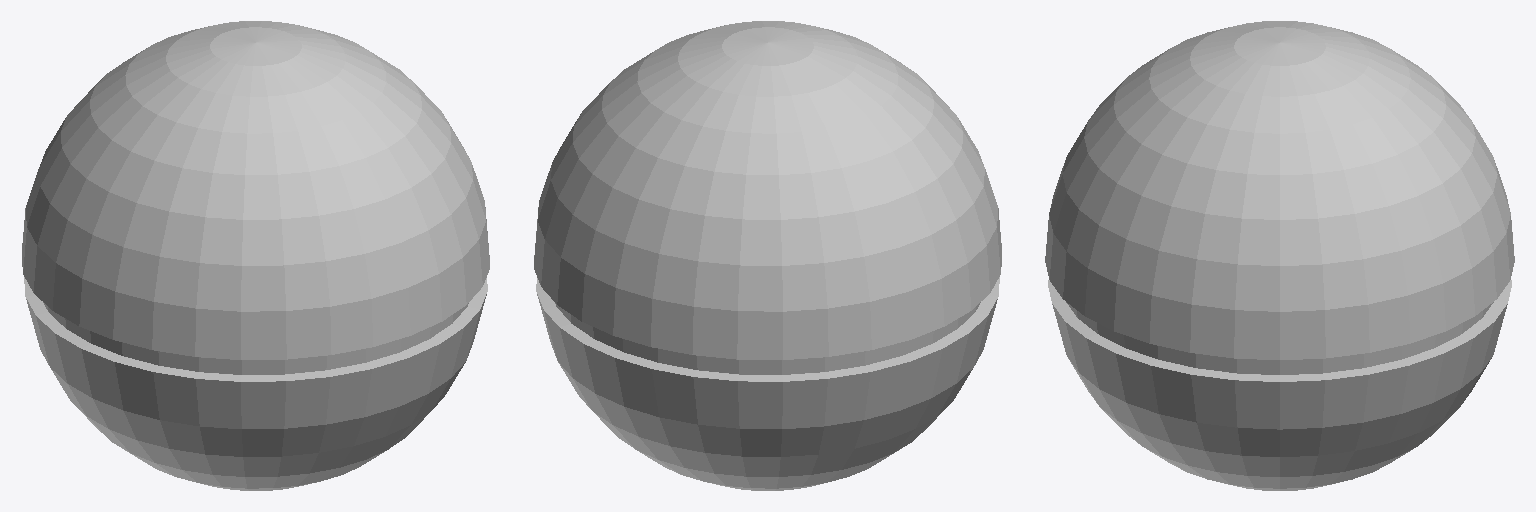
The model's file is pokeball.obj.
The picture shows the model from 3 angles: view 1: azimuth 30°, elevation 25°; view 2: azimuth 150°, elevation 25°; view 3: azimuth 270°, elevation 25°; orthographic projection.
Parts seen in each view (by area): view 1: Sphere; view 2: Sphere; view 3: Sphere.
Part boxes in pixels (x1,y1,x2,y2): Sphere: (22, 21, 489, 490); Sphere: (534, 21, 1001, 490); Sphere: (1045, 21, 1514, 490).
Size of the model in its own units: 2 by 2 by 2.